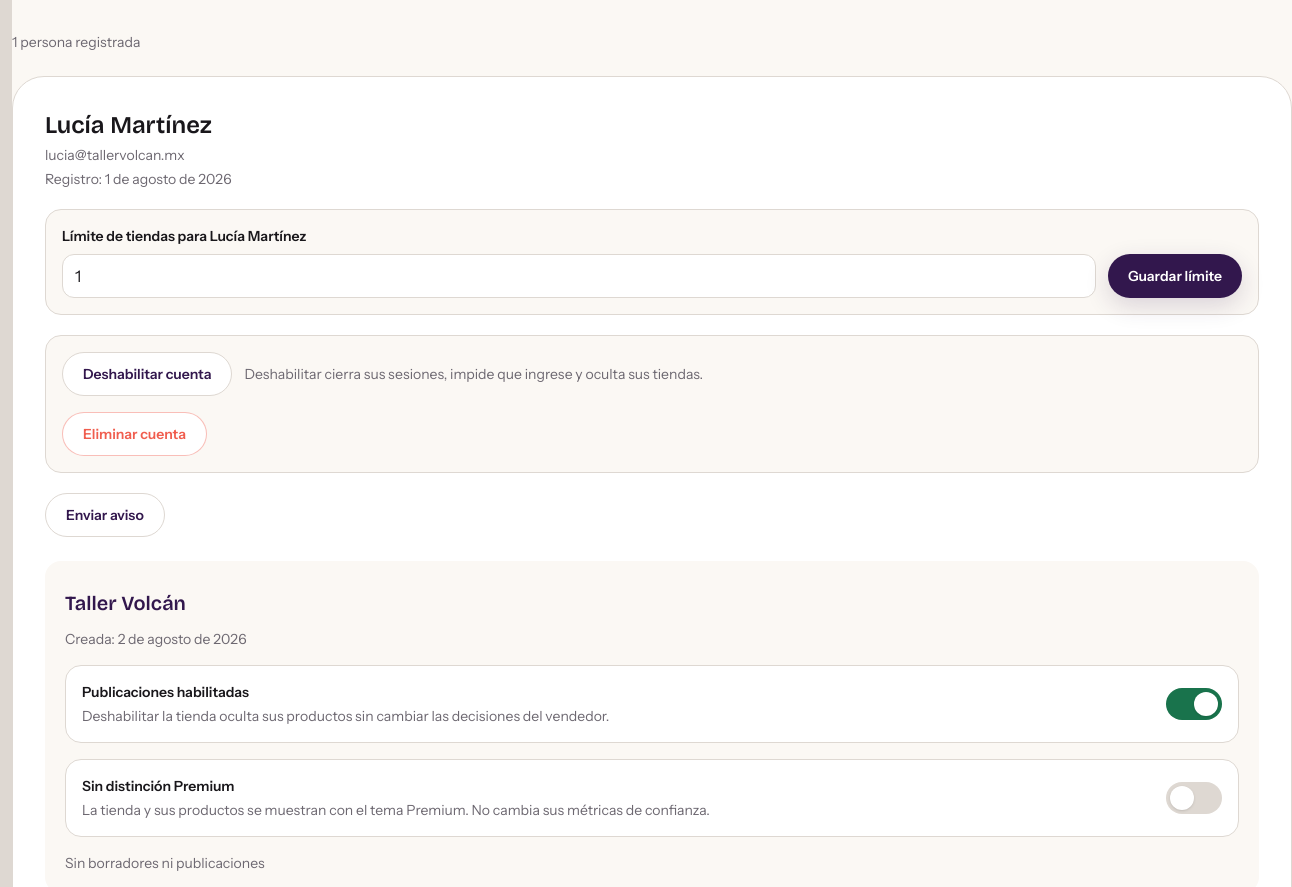
Test: MarketplaceUsers › announces an approval error returned by the server
The image size is (1292, 887).
Click the switch named "Publicaciones habilitadas" in the row of "Publicaciones habilitadas" at [1194, 704], box [1166,688,1222,720]
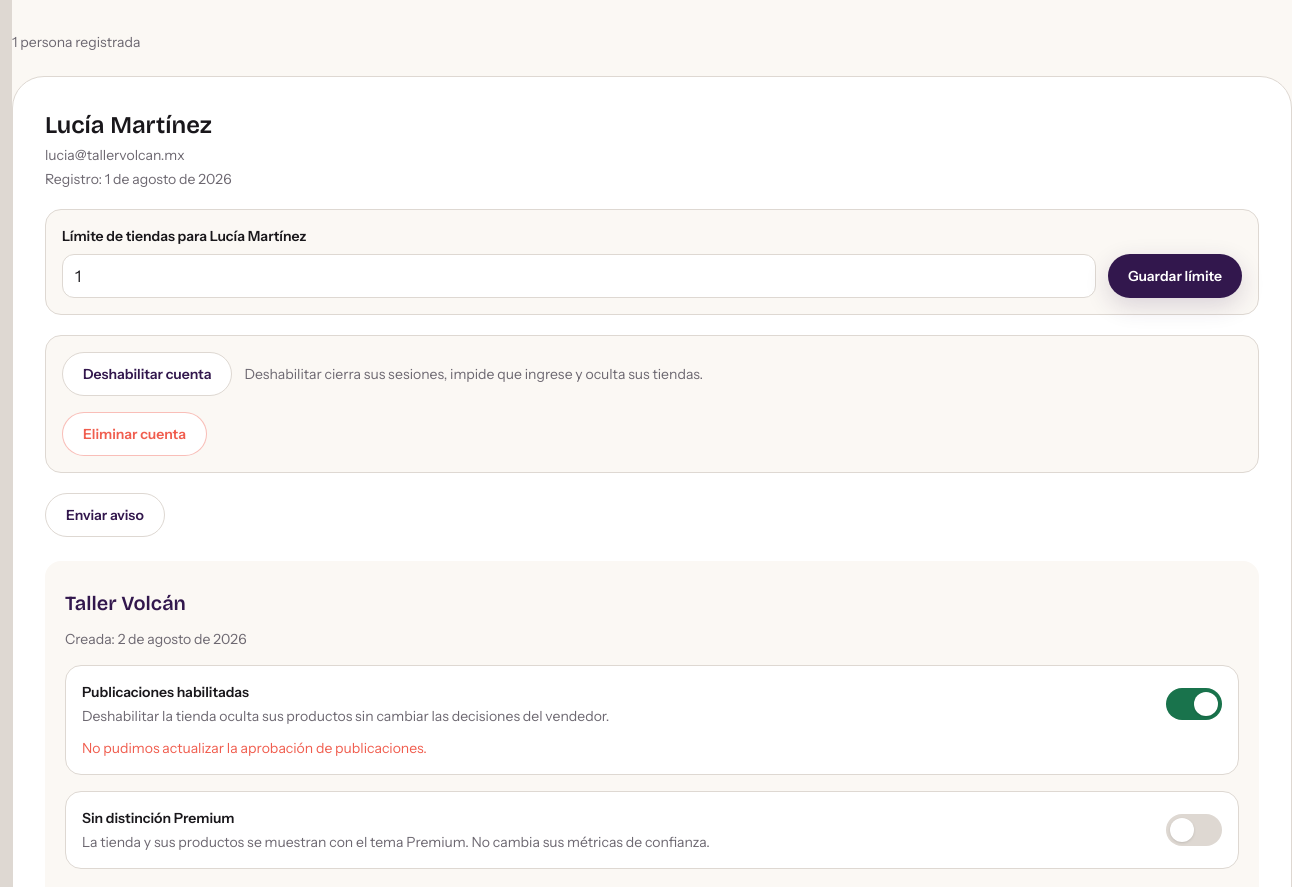
expect the message reads "No pudimos actualizar la aprobación de publicaciones.": met, box [82,739,427,757]
